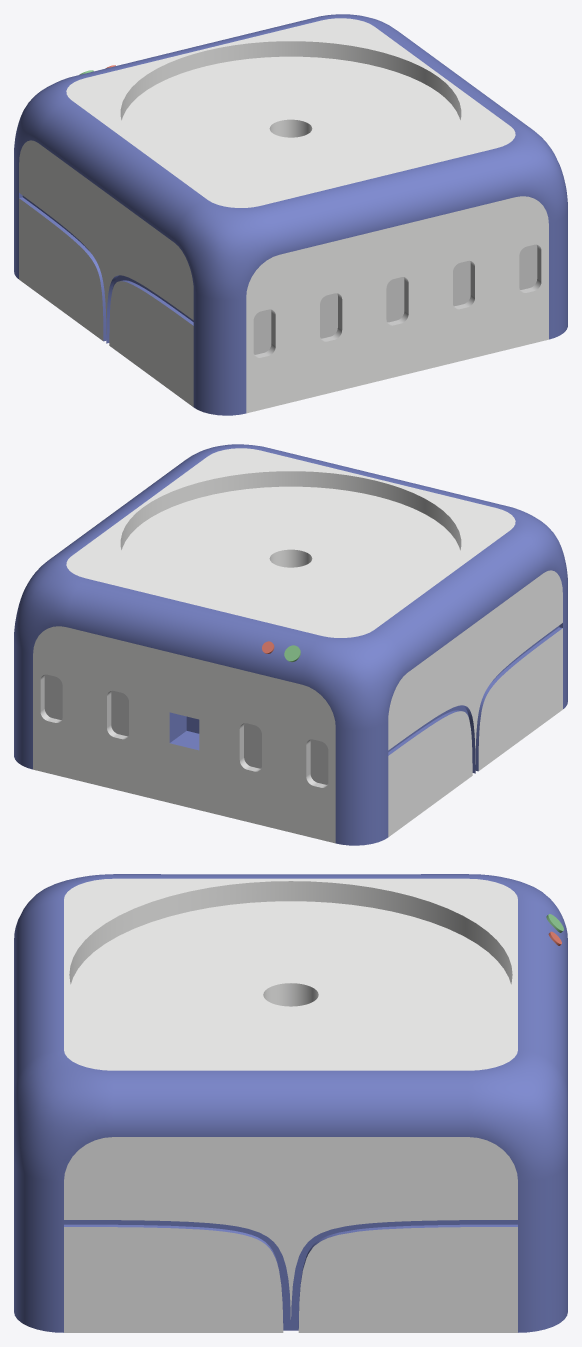
File: carcaca.dae
The picture shows the model from 3 angles, top to bottom: view 1: azimuth 30°, elevation 25°; view 2: azimuth 150°, elevation 25°; view 3: azimuth 270°, elevation 25°; orthographic projection. The views are drawn at different scales.
Visible parts, largest first — view 1: Body1; view 2: Body1; view 3: Body1.
Boxes of the visible parts, left/top/right/bottom form: Body1: left=14, top=14, right=567, bottom=415; Body1: left=14, top=444, right=567, bottom=845; Body1: left=14, top=874, right=567, bottom=1332.
Size of the model in its own units: 0.5 by 0.5 by 0.24.
